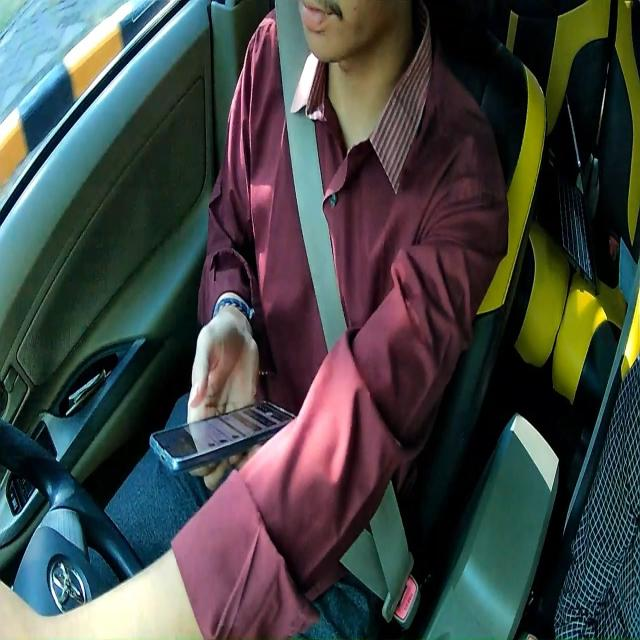phone: (148, 397, 298, 476)
